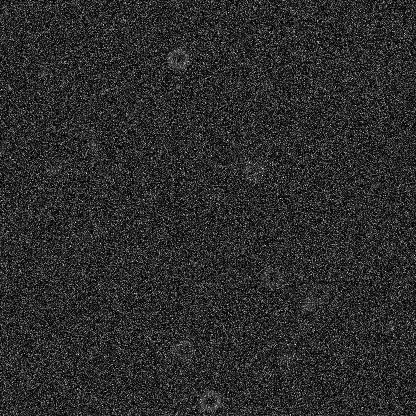Ring: (78, 218, 102, 242), (172, 337, 196, 361), (330, 241, 354, 265), (241, 159, 265, 183), (165, 46, 189, 70), (259, 266, 283, 290), (306, 281, 330, 305), (198, 388, 222, 412)
Spot: (96, 318, 112, 334), (251, 366, 267, 382), (26, 241, 42, 257), (278, 349, 294, 365), (85, 136, 101, 152), (299, 297, 315, 313), (257, 78, 273, 94), (336, 112, 352, 128), (37, 62, 53, 78), (382, 320, 398, 336), (287, 328, 303, 344), (47, 161, 63, 177), (170, 27, 186, 43)
